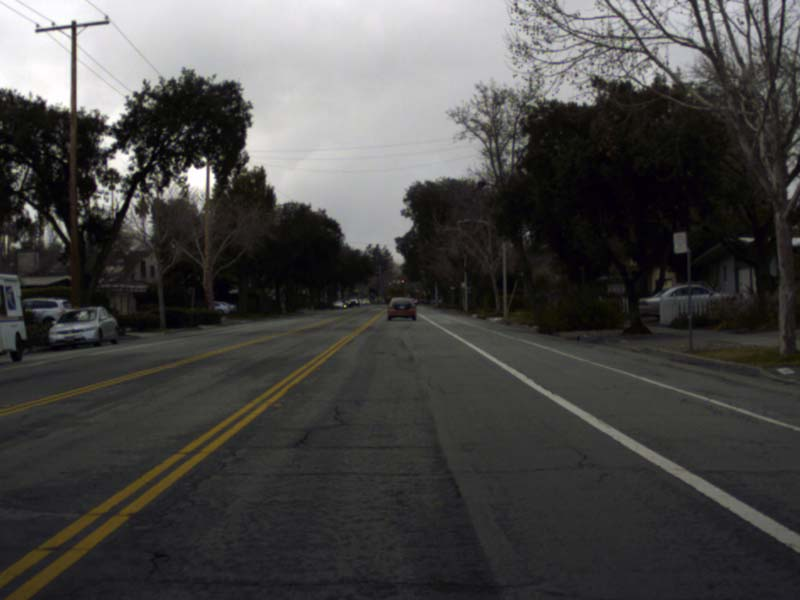Green: (354, 286, 358, 294), (388, 279, 390, 284)
Red: (416, 289, 418, 294), (401, 279, 403, 283)
